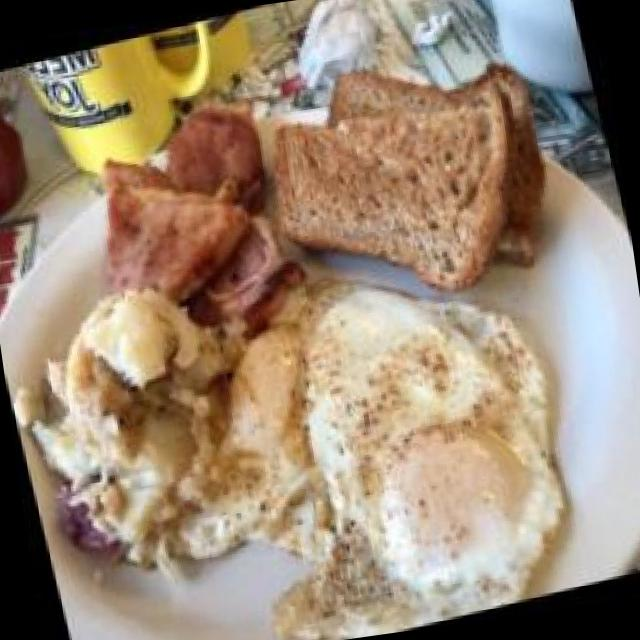fried_eggs: (187, 227, 599, 640)
